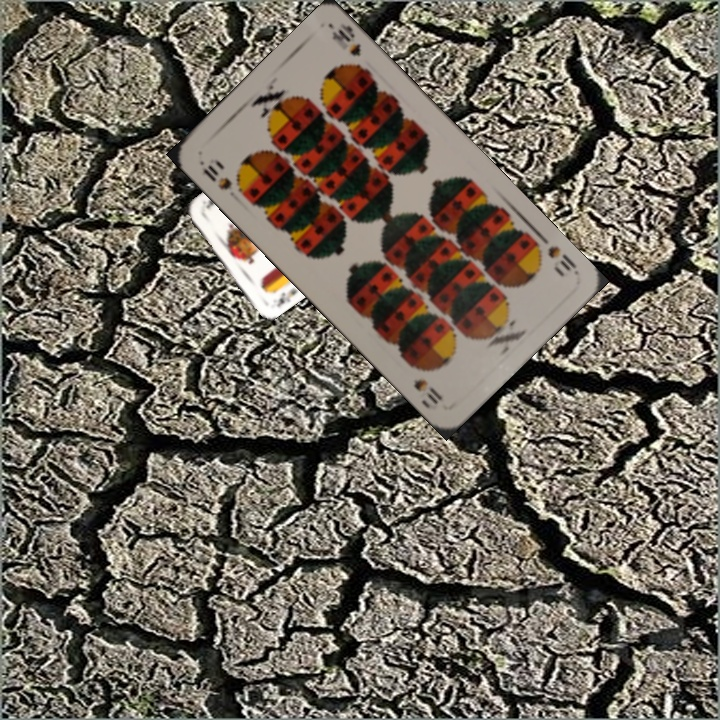EK: (272, 284, 300, 310)
S10: (529, 230, 580, 277), (198, 160, 235, 193)
